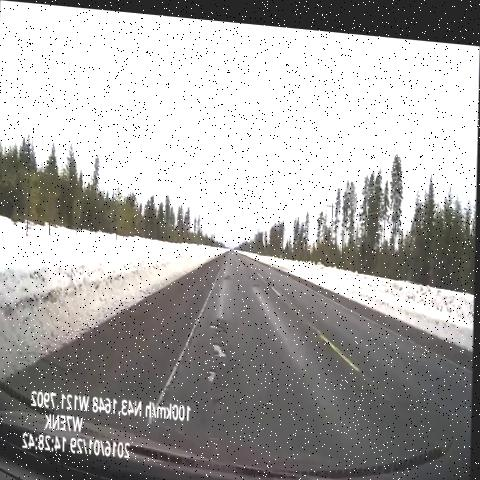pothole: (208, 364, 230, 400), (205, 302, 229, 332), (208, 336, 233, 358), (245, 263, 262, 286), (222, 262, 236, 280)
